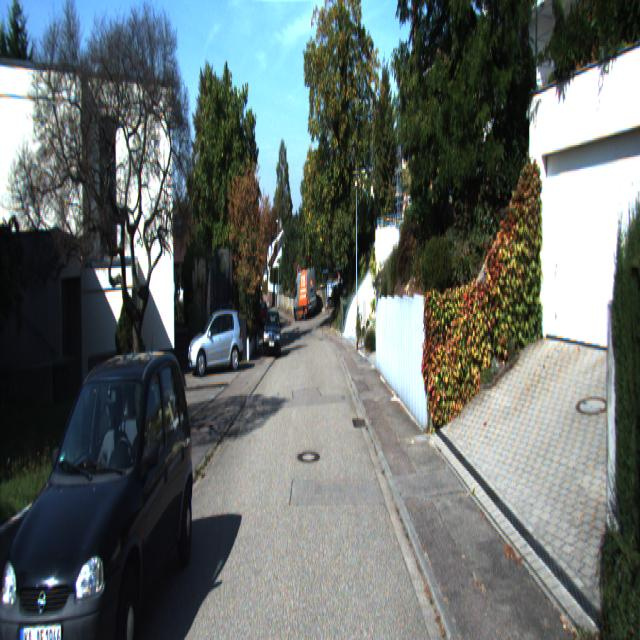Car: (0, 345, 197, 638), (188, 308, 245, 378), (263, 310, 282, 358)
Van: (293, 269, 317, 322)
